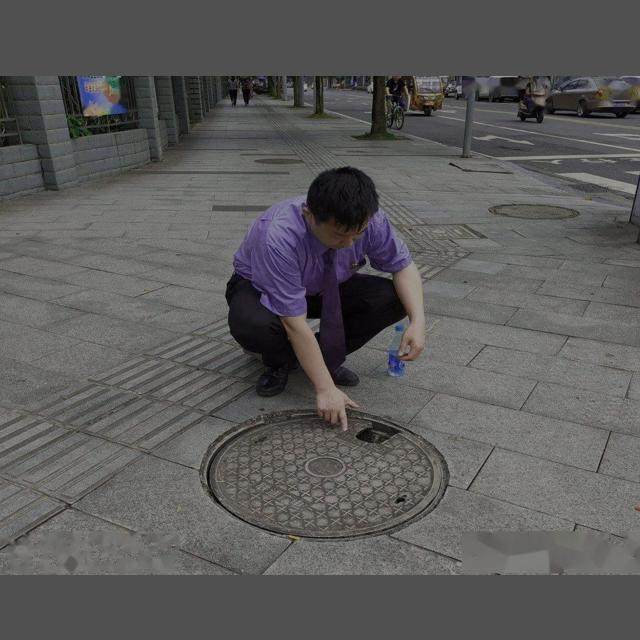broke: (205, 407, 453, 538)
